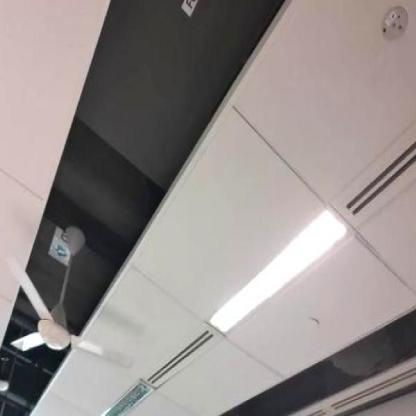light_on: (202, 191, 350, 345)
